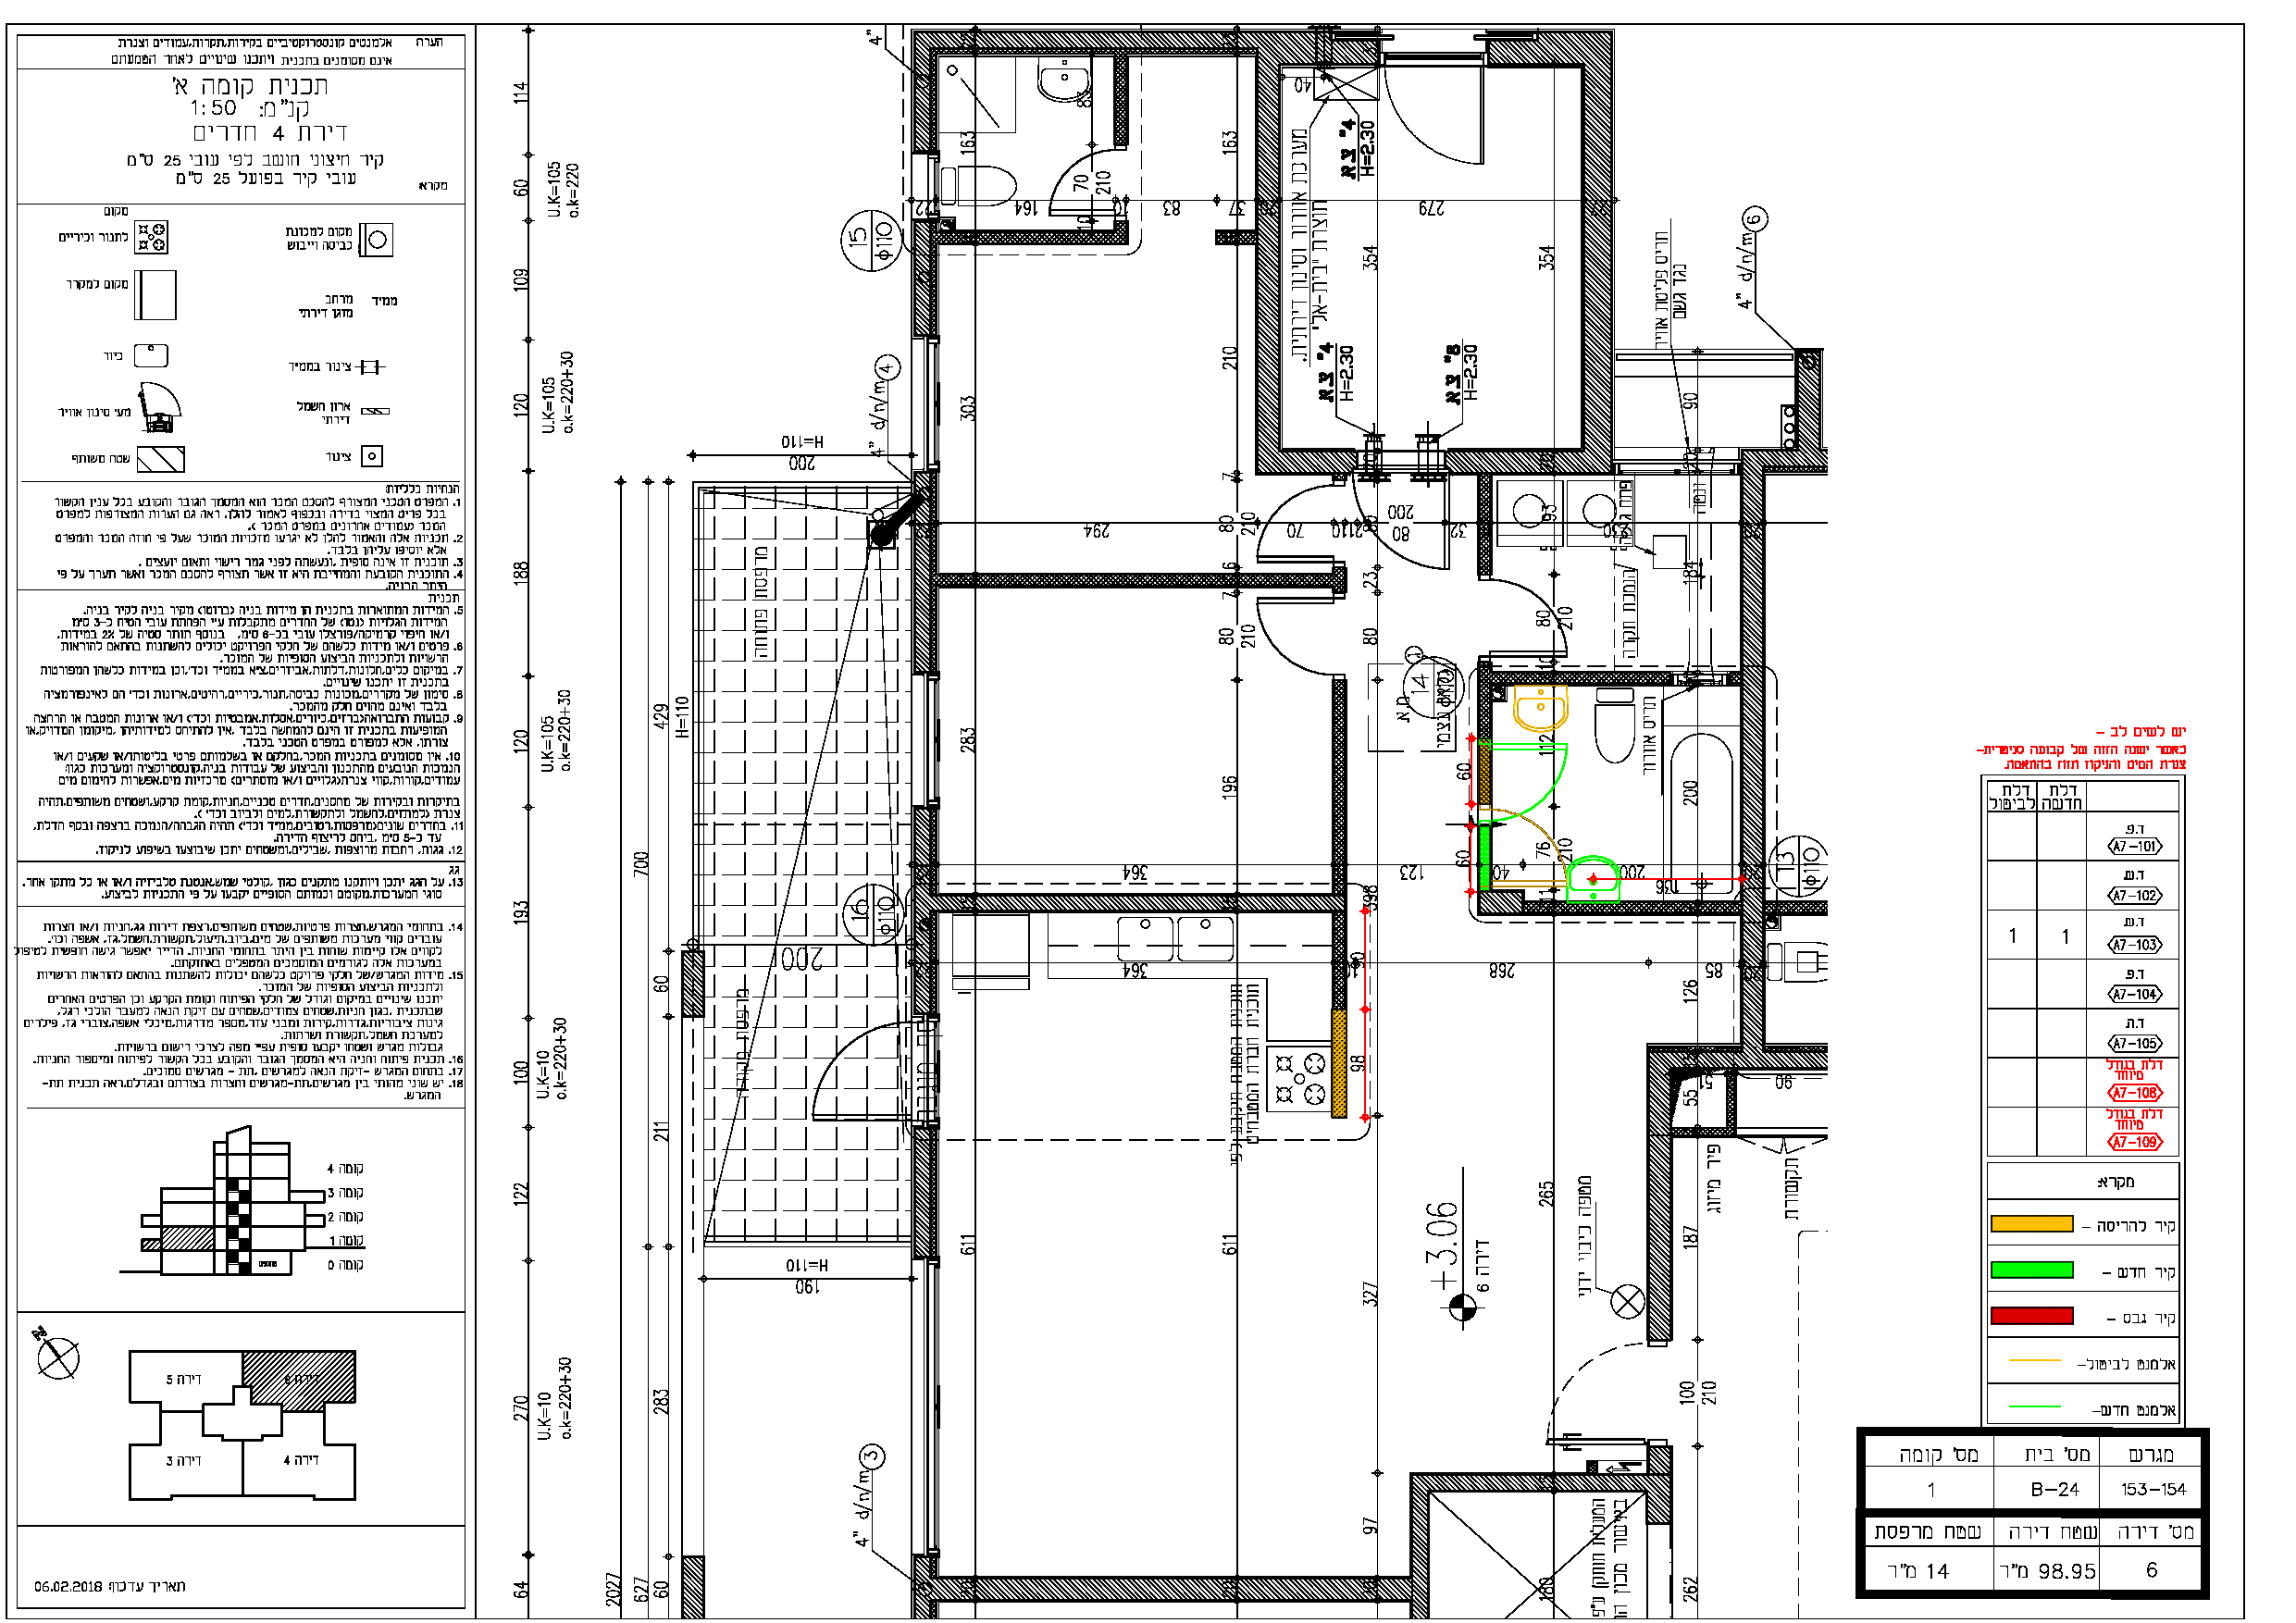door: (1532, 1344, 1637, 1451), (1383, 77, 1498, 170), (1344, 494, 1465, 573), (1502, 571, 1578, 660), (1498, 736, 1588, 808), (1249, 594, 1325, 678), (1249, 488, 1328, 566), (1042, 151, 1107, 220)
wall: (1581, 26, 1611, 458), (1739, 446, 1767, 859), (1256, 35, 1281, 462), (912, 892, 1340, 912), (982, 1579, 1224, 1600), (1650, 1135, 1672, 1338), (1743, 666, 1764, 855), (1525, 899, 1739, 917), (973, 574, 1235, 587), (1451, 451, 1609, 471), (1333, 678, 1347, 891), (1244, 1577, 1363, 1600), (913, 1129, 933, 1258), (912, 1128, 931, 1256), (1479, 671, 1667, 683), (1411, 1475, 1426, 1614), (1743, 968, 1764, 1068), (975, 230, 1119, 244), (1556, 1474, 1671, 1491), (1412, 1474, 1551, 1488), (1648, 1050, 1671, 1131), (1332, 1010, 1347, 1117), (682, 1558, 704, 1614), (1332, 912, 1344, 1005)
